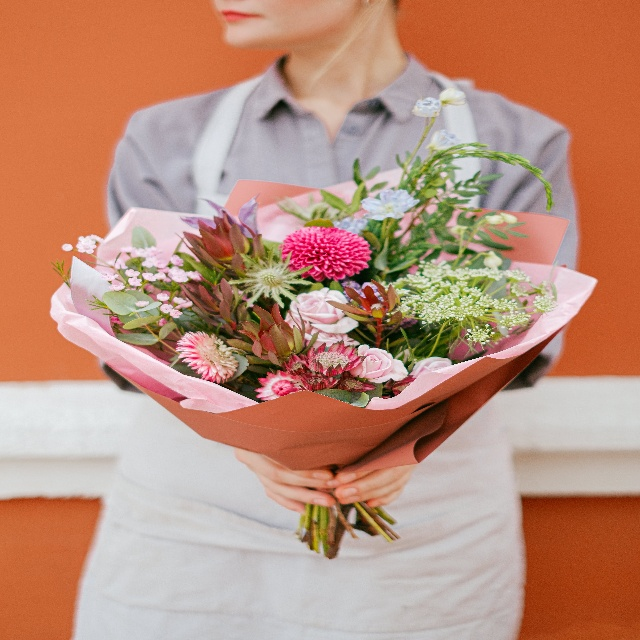Sin_guantes: (233, 445, 336, 514), (333, 460, 413, 509)
